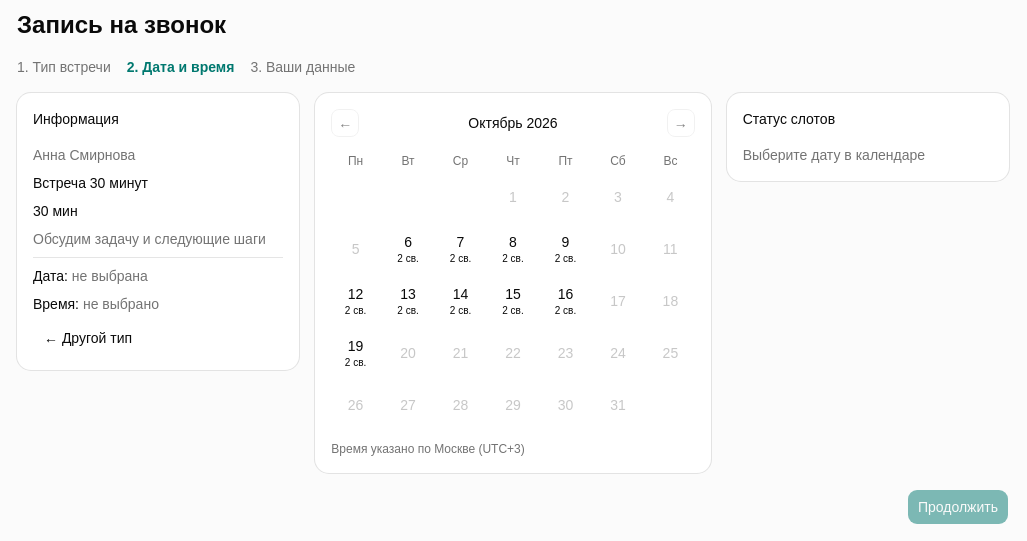
колонка «Статус слотов» › после выбора дня показывает все слоты дня с интервалами в поясе Owner и статусами
Click the button "7 2 св.": {"x": 461, "y": 249} [436,225,485,273]
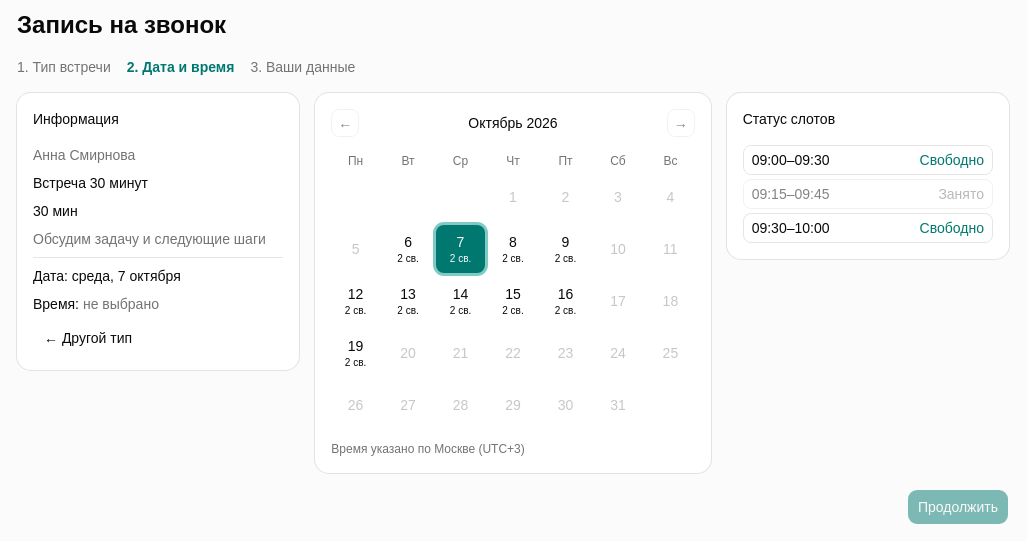
Expected: the element "Статус слотов" no longer shows "Выберите дату в календаре", [727,93,1009,259]
